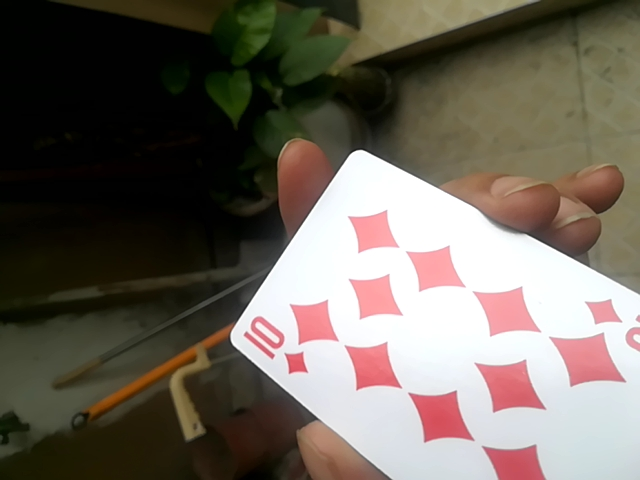fk 10: (219, 144, 640, 478)
